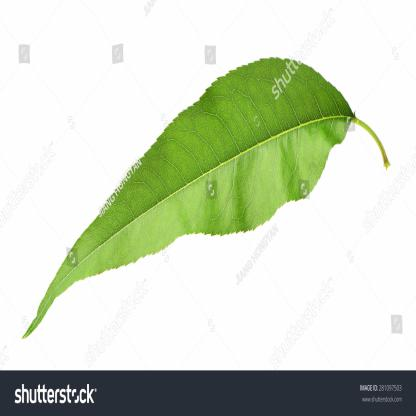Peach leaf: (15, 40, 395, 354)
